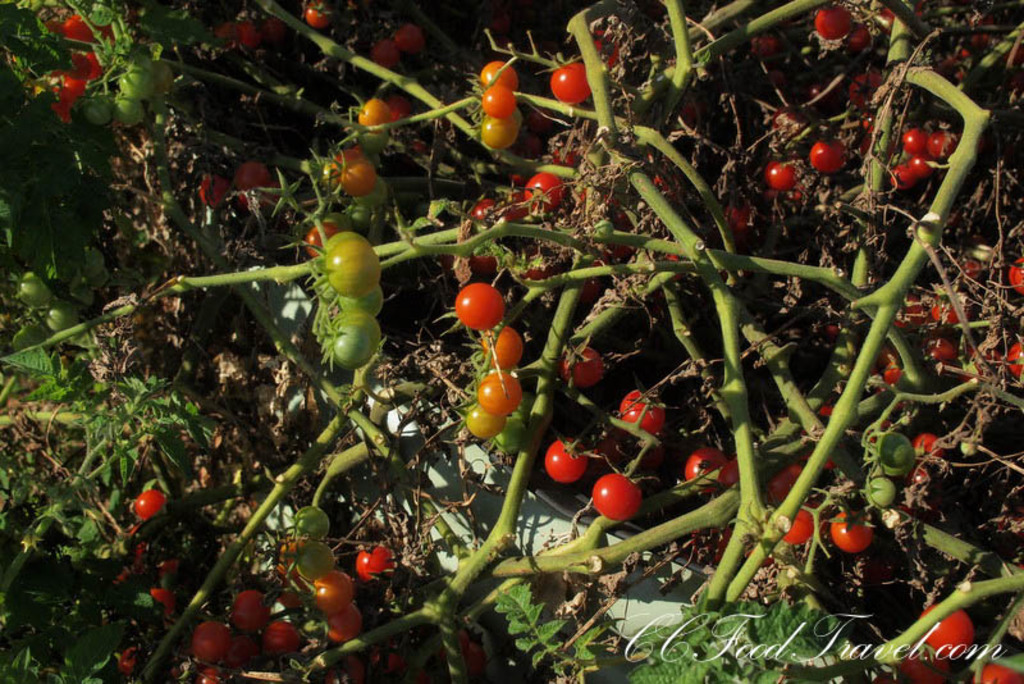Tomato: (298, 175, 387, 365), (42, 11, 175, 124), (879, 261, 985, 391), (471, 167, 561, 277), (917, 600, 981, 654), (318, 147, 375, 197), (588, 475, 641, 521), (455, 284, 505, 331), (616, 388, 666, 435), (544, 434, 587, 485), (779, 500, 820, 553), (872, 435, 920, 480), (485, 326, 529, 374), (830, 504, 872, 553), (889, 648, 948, 682), (309, 569, 353, 614), (232, 157, 270, 207), (322, 599, 363, 645), (194, 619, 236, 663), (294, 536, 334, 580), (229, 593, 271, 634), (350, 544, 395, 582), (550, 62, 588, 107), (8, 267, 48, 309), (481, 374, 522, 413), (559, 348, 602, 384), (812, 3, 855, 37), (261, 622, 298, 660), (358, 98, 394, 137), (478, 58, 519, 92), (808, 135, 842, 176), (293, 504, 330, 541), (481, 116, 519, 152), (128, 485, 167, 520), (686, 452, 727, 485), (764, 154, 797, 194), (848, 69, 880, 110), (199, 166, 235, 202), (364, 38, 399, 75), (221, 637, 259, 671), (770, 458, 798, 504), (920, 129, 958, 161), (477, 87, 513, 120), (271, 536, 298, 576), (471, 407, 509, 434), (257, 12, 290, 43), (971, 662, 1022, 682), (866, 473, 898, 504), (48, 298, 75, 334), (898, 122, 929, 153), (113, 645, 140, 678), (350, 131, 390, 152), (595, 30, 618, 66), (148, 586, 176, 614), (855, 117, 874, 158), (915, 431, 938, 464), (302, 1, 332, 26), (552, 143, 586, 165), (234, 19, 262, 44), (83, 245, 102, 281), (386, 28, 413, 53), (889, 166, 913, 192), (188, 666, 226, 682), (848, 26, 874, 46), (734, 202, 751, 231), (907, 158, 934, 176), (1006, 348, 1022, 376), (1008, 260, 1022, 289)
